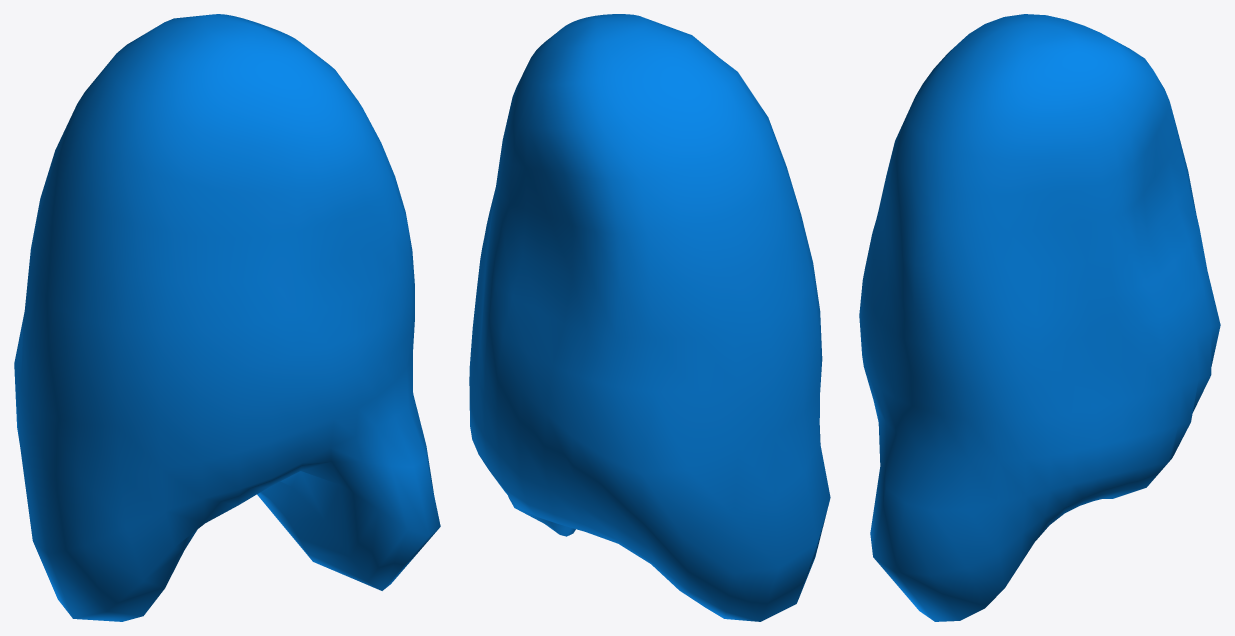
File: blob-body.glb
3 renders of one model, left to right at view 1: azimuth 30°, elevation 25°; view 2: azimuth 150°, elevation 25°; view 3: azimuth 270°, elevation 25°, orthographic. The views are drawn at different scales.
Visible parts, largest first — view 1: Sphere; view 2: Sphere; view 3: Sphere.
Boxes of the visible parts, <box> form: Sphere: <box>14,14,440,621</box>; Sphere: <box>469,14,830,621</box>; Sphere: <box>859,14,1220,621</box>.
Size of the model in its own units: 2.36 by 3.66 by 2.19.
